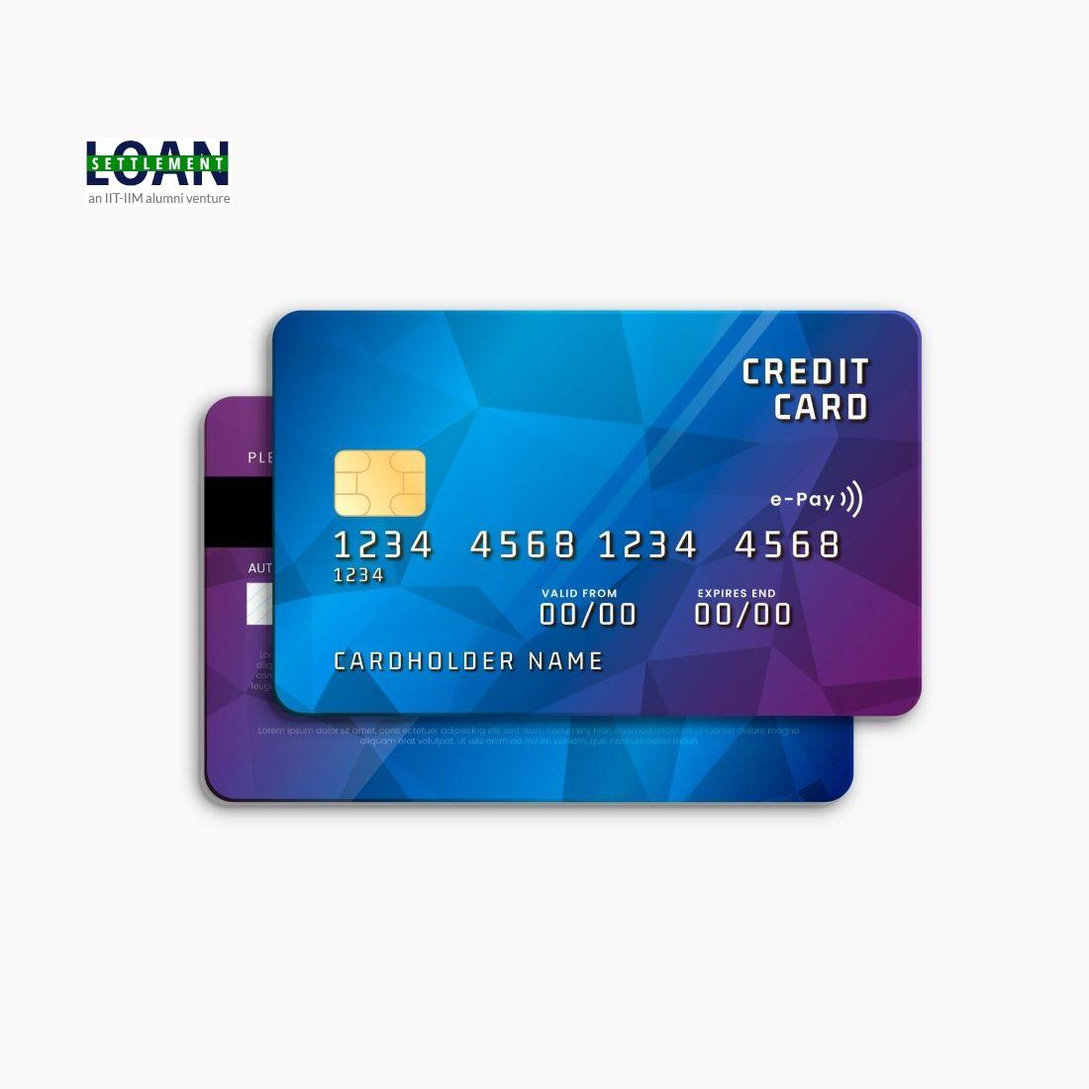Credit_card: (274, 311, 921, 717)
